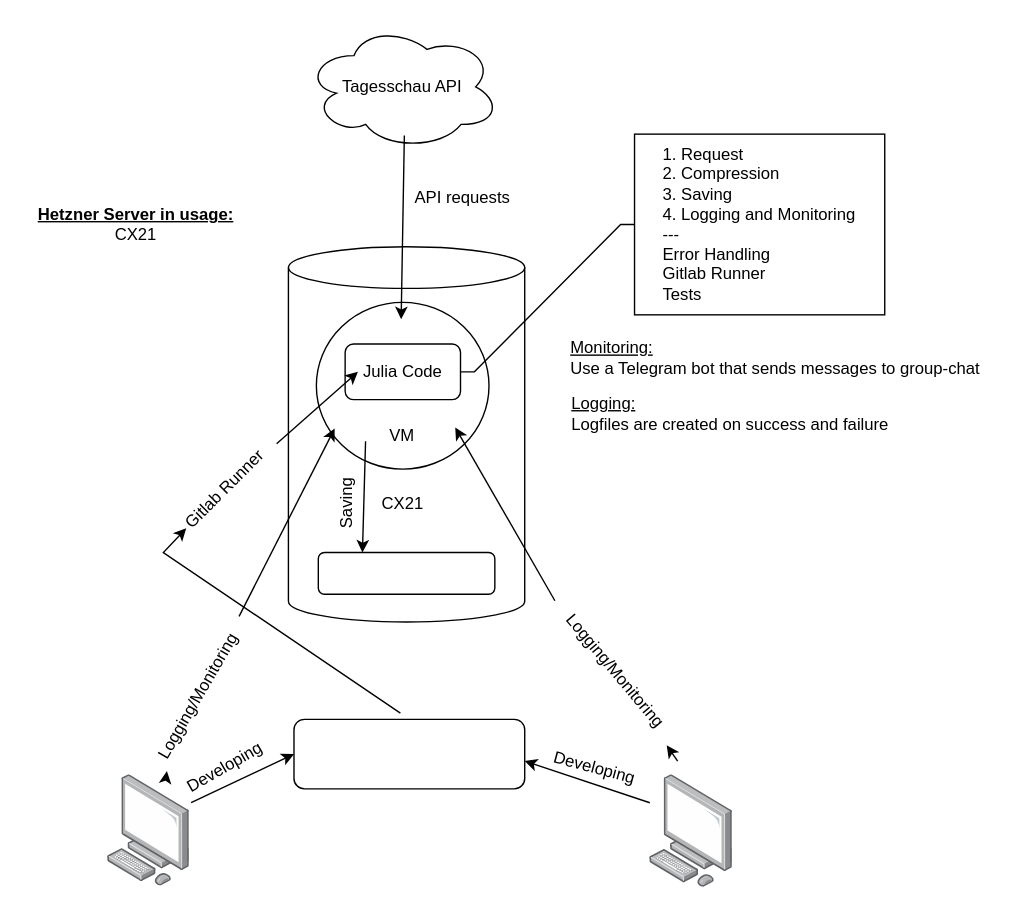
Image size: 1020x912. Some labels were removed from this diagram. The shapes that lost their labels are listed below. From the top down, each one's centre as x and y in pixels, then its label:
At point (406, 572): "Data Storage".
At point (409, 753): "Git Repository".
